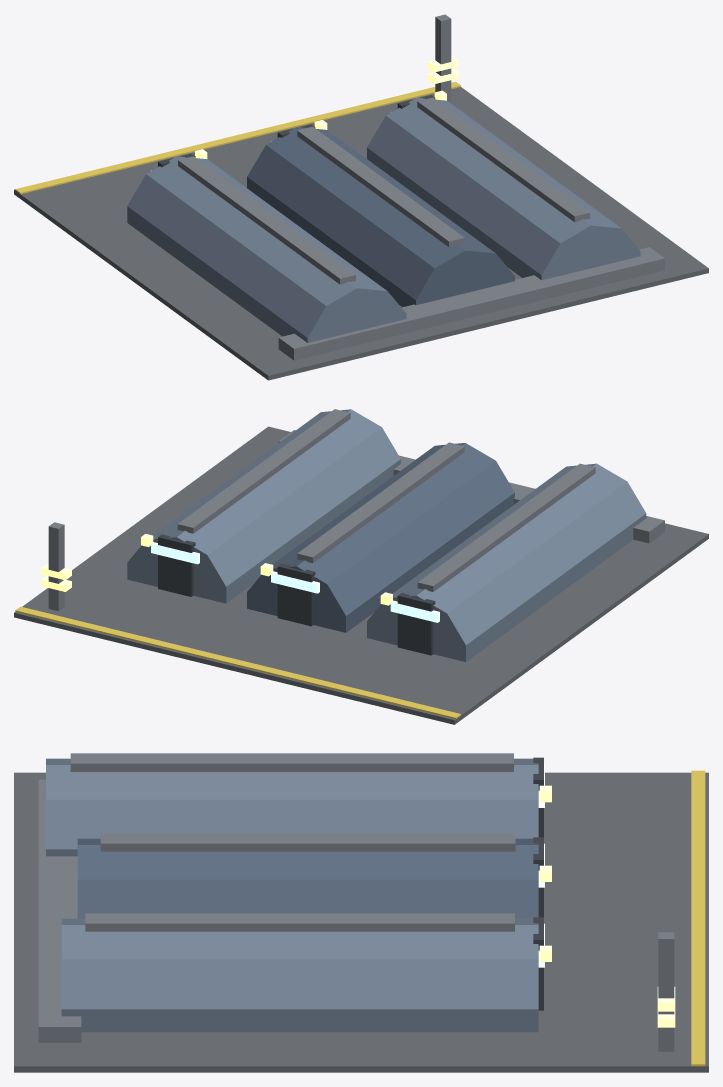
Rendered from zone_low_6_t2.glb.
3 views of the same model, one above another, from view 1: azimuth 30°, elevation 25°; view 2: azimuth 150°, elevation 25°; view 3: azimuth 270°, elevation 25° (orthographic). The views are drawn at different scales.
Parts seen in each view (by area): view 1: zone_low_6_t2, detail; view 2: zone_low_6_t2, detail; view 3: zone_low_6_t2, detail.
Part boxes in pixels (<box>): zone_low_6_t2: <box>14,87,708,380</box>; detail: <box>15,14,460,194</box>; zone_low_6_t2: <box>14,409,708,724</box>; detail: <box>15,522,460,719</box>; zone_low_6_t2: <box>14,753,708,1072</box>; detail: <box>539,770,705,1066</box>.
Bounding box in the file's own units: 19.6 × 3.7 × 19.6.
